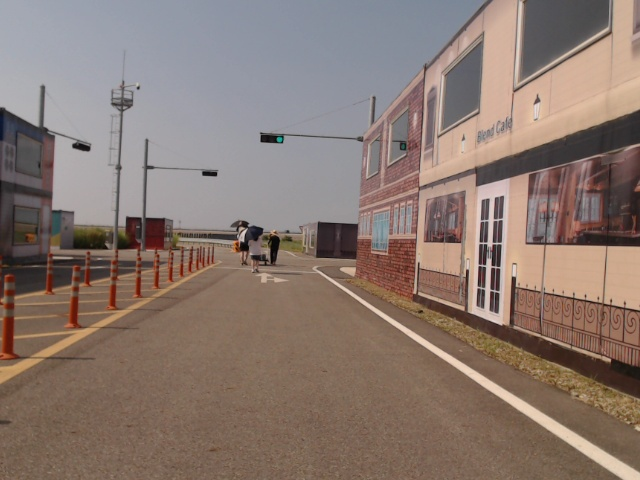green_3: (260, 135, 284, 144)
